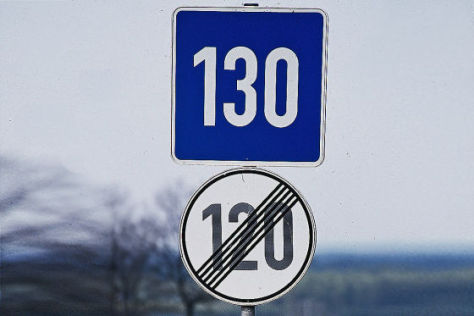aufgehoben: (179, 167, 319, 306)
